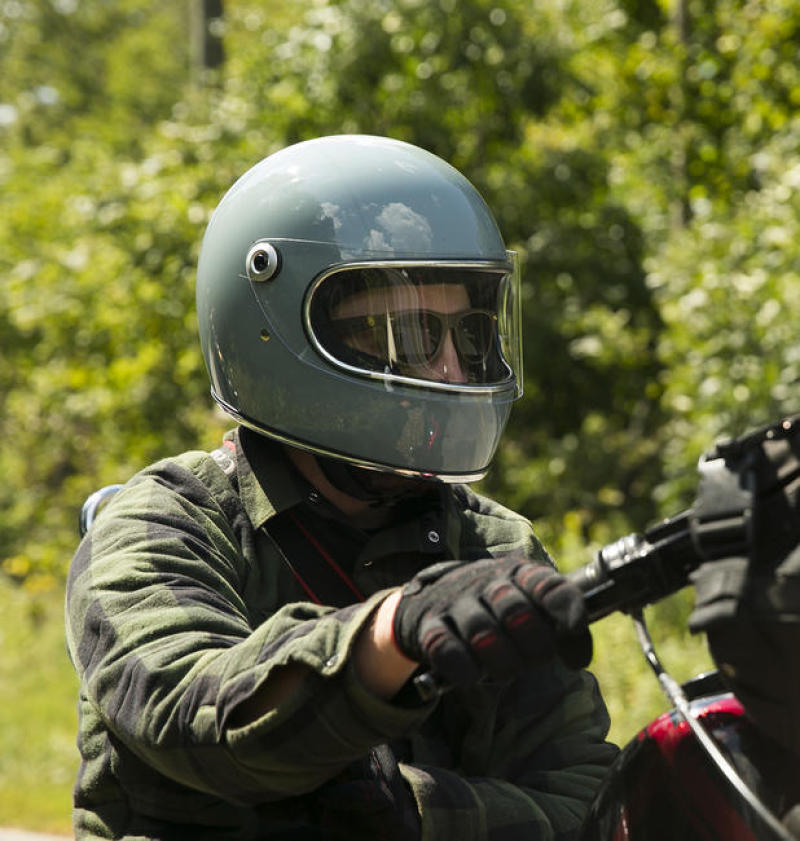helmet: (110, 67, 620, 548)
